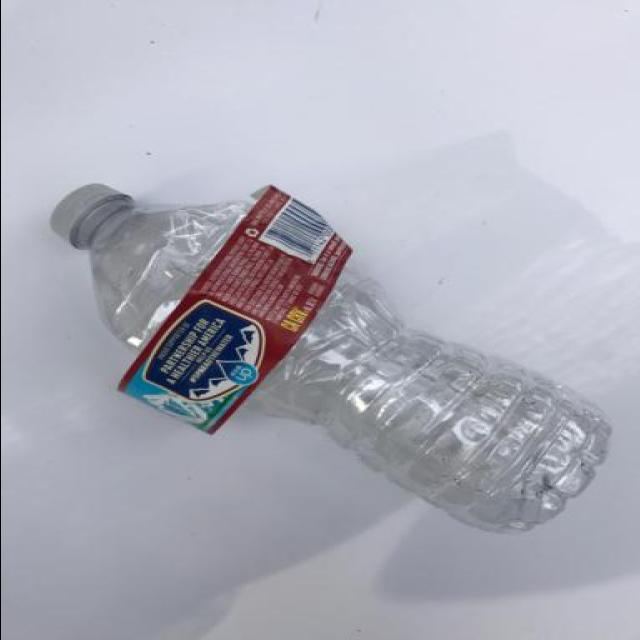PET: (45, 170, 615, 538)
